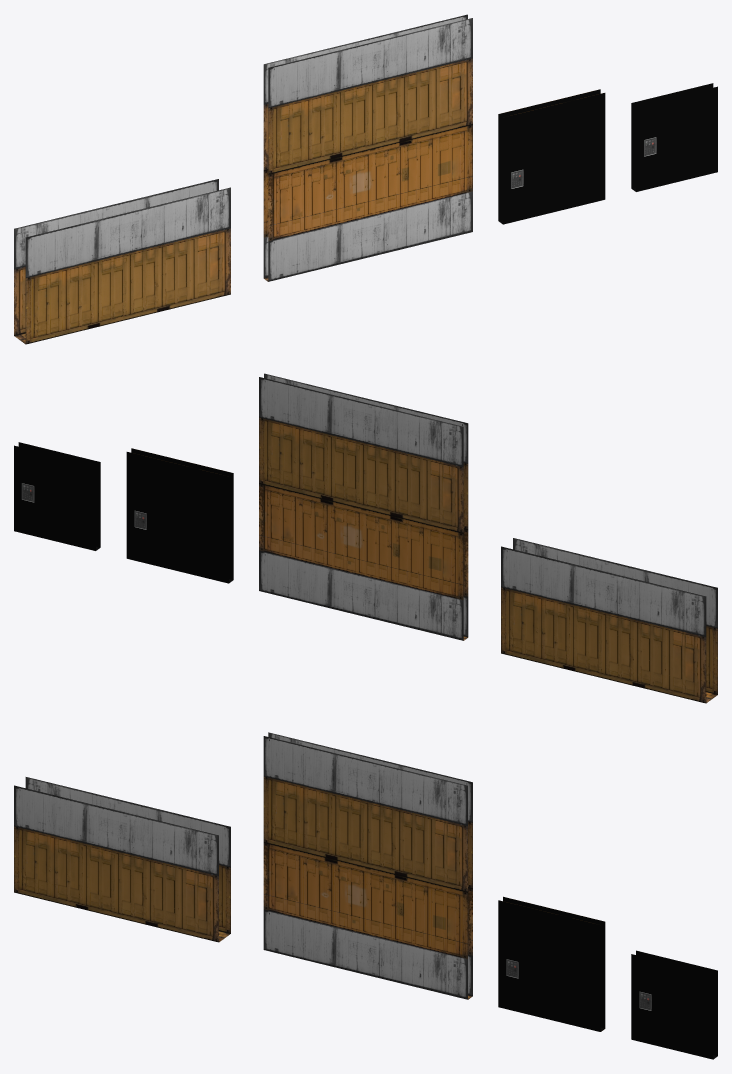
The model's file is Door.fbx.
3 renders of one model, top to bottom at view 1: azimuth 30°, elevation 25°; view 2: azimuth 150°, elevation 25°; view 3: azimuth 330°, elevation 25°, orthographic.
Parts seen in each view (by area): view 1: Door5m, Door5m_Half, Door 2-5m, Door 2m; view 2: Door5m, Door5m_Half, Door 2-5m, Door 2m; view 3: Door5m, Door5m_Half, Door 2-5m, Door 2m.
Part boxes in pixels (x1,y1,x2,y2): Door5m: (263,14,472,281); Door5m_Half: (14,179,230,344); Door 2-5m: (498,89,605,224); Door 2m: (631,83,717,191); Door5m: (259,373,468,640); Door5m_Half: (501,538,717,703); Door 2-5m: (126,448,233,583); Door 2m: (14,442,100,550); Door5m: (263,732,472,999); Door5m_Half: (14,777,230,942); Door 2-5m: (498,896,605,1031); Door 2m: (631,950,717,1059).
Bounding box in the file's own units: 1700 × 500 × 50.
